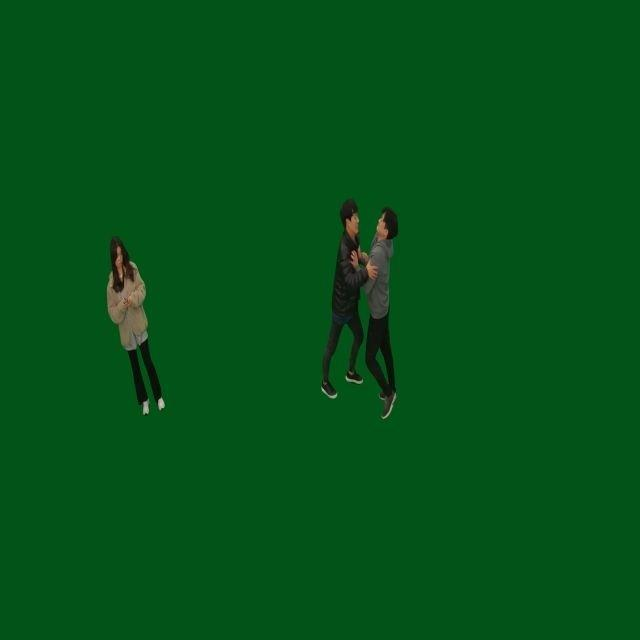fight: (319, 199, 401, 419)
non-fight: (102, 233, 169, 414)
